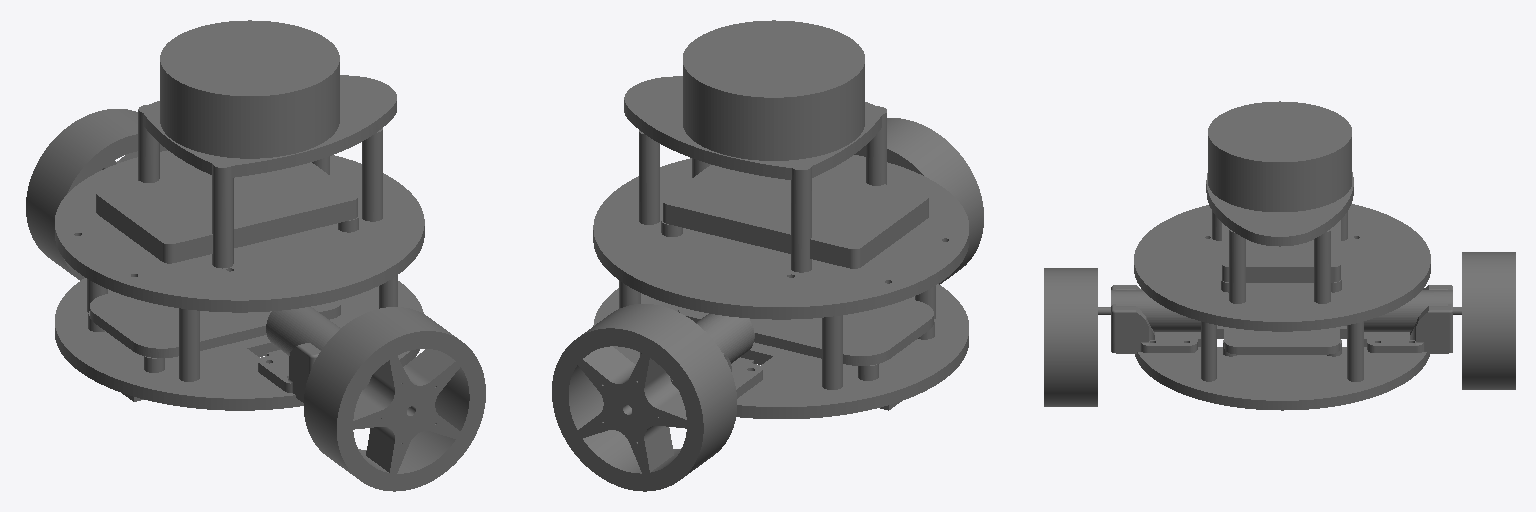
URDF robot description (hykabai):
<?xml version='1.0'?>

<robot name="hykabai" xmlns:xacro="http://www.ros.org/wiki/xacro">


  <link name='base_footprint'/>

  <joint name="base_joint" type="fixed">
    <parent link="base_footprint"/>
    <child link="base_link"/>
    <origin xyz="0.0 0.0 0.010" rpy="0 0 0"/>
  </joint>

  <link name='base_link'>
    <pose>0 0 0.01 0 0 0</pose>
    <inertial>
      <mass value="2.4"/>
      <origin xyz="0.0 0 0.045" rpy=" 0 0 0"/>
      <inertia
          ixx="0.0001" ixy="0" ixz="0"
          iyy="0.0001" iyz="0"
          izz="0.0001"
      />
    </inertial>

    <collision name='collision'>
      <origin xyz="0.0 0 0.07" rpy=" 0 0 0"/>
      <geometry>
        <cylinder length=".121" radius=".07"/>
      </geometry>
    </collision>

    <visual name='chassis_visual'>
      <origin xyz="-0.125 -0.075 -0.16" rpy=" 0 0 3.1416"/>
      <geometry>
        <mesh filename="package://hykabai_simulations/meshes/Base.stl" scale="0.001 0.001 0.001"/>
      </geometry>
      <material name="Gray">
        <color rgba="0.5 0.5 0.5 1.0"/>
      </material>
    </visual>

    <collision name='caster_collision'>
      <origin rpy="0 0 0" xyz="0.065 0 0.01"/>
      <geometry>
        <sphere radius="0.01"/>
      </geometry>
      <surface>
        <friction>
          <ode>
            <mu>0</mu>
            <mu2>0</mu2>
            <slip1>1.0</slip1>
            <slip2>1.0</slip2>
          </ode>
        </friction>
      </surface>
    </collision>

    <visual name='caster_visual'>
      <origin rpy="0 0 0" xyz="0.12 0.073 -0.155"/>
      <geometry>
        <mesh filename="package://hykabai_simulations/meshes/CastorWheel.stl" scale="0.001 0.001 0.001"/>
      </geometry>
    </visual>
  </link>


  <link name="left_wheel">
    <!--origin xyz="0 -188 0.035" rpy="0 1.5707 1.5707"/-->
    <collision name="collision">
      <origin rpy="0 1.5707 1.5707" xyz="0 0 0"/>
      <geometry>
        <cylinder length=".021" radius=".035"/>
      </geometry>
    </collision>
    <visual name="left_wheel_visual">
      <origin rpy="0 3.1416 0" xyz="-0.12 0.16 0.189"/>
      <geometry>
        <mesh filename="package://hykabai_simulations/meshes/LeftWheel.stl" scale="0.001 0.001 0.001"/>
      </geometry>
      <material name="Gray">
        <color rgba="0.5 0.5 0.5 1.0"/>
      </material>
    </visual>
    <inertial>
      <origin rpy="0 1.5707 1.5707" xyz="0 0 0.035"/>
      <mass value="0.01"/>
      <cylinder_inertia m="0.01" r="0.035" h="0.021"/>
      <inertia
        ixx="0.001" ixy="0.0" ixz="0.0"
        iyy="0.001" iyz="0.0"
        izz="0.001"/>
    </inertial>
  </link>

  <link name="right_wheel">
    <!--origin xyz="0 188 0.035" rpy="0 1.5707 1.5707"/-->
    <collision name="collision">
      <origin rpy="0 1.57 1.57" xyz="0 0 0"/>
      <geometry>
        <cylinder length=".021" radius=".035"/>
      </geometry>
    </collision>
    <visual name="right_wheel_visual">
      <origin rpy="0 0 0" xyz="0.125 -0.01 -0.189"/>
      <geometry>
        <mesh filename="package://hykabai_simulations/meshes/RightWheel.stl" scale="0.001 0.001 0.001"/>
      </geometry>
      <material name="Gray">
        <color rgba="0.5 0.5 0.5 1.0"/>
      </material>
    </visual>
    <inertial>
      <origin rpy="0 1.5707 1.5707" xyz="0 0 0.035"/>
      <mass value="0.01"/>
      <cylinder_inertia m="0.01" r="0.035" h="0.021"/>
      <inertia
        ixx="0.001" ixy="0.0" ixz="0.0"
        iyy="0.001" iyz="0.0"
        izz="0.001"/>
    </inertial>
  </link>


  <joint type="continuous" name="left_wheel_hinge">
    <origin xyz="0 -0.09 0.025" rpy="0 0 0"/>
    <child link="left_wheel"/>
    <parent link="base_link"/>
    <axis xyz="0 1 0" rpy="0 0 0"/>
    <limit effort="100" velocity="100"/>
    <joint_properties damping="0.0" friction="0.0"/>
  </joint>

  <joint type="continuous" name="right_wheel_hinge">
    <origin xyz="0 0.082 0.025" rpy="0 0 0"/>
    <child link="right_wheel"/>
    <parent link="base_link"/>
    <axis xyz="0 1 0" rpy="0 0 0"/>
    <limit effort="100" velocity="100"/>
    <joint_properties damping="0.0" friction="0.0"/>
  </joint>




</robot>
	
	

--- Facts derived from the render (not from the file) ---
The picture shows the robot from 3 angles, left to right: view 1: azimuth 30°, elevation 25°; view 2: azimuth 150°, elevation 25°; view 3: azimuth 270°, elevation 25°; orthographic projection.
Robot: hykabai — 4 links, 3 joints (2 continuous, 1 fixed); root link base_footprint; default pose: every joint at zero.
Visible links, largest first — view 1: base_link, left_wheel, right_wheel; view 2: base_link, right_wheel, left_wheel; view 3: base_link, left_wheel, right_wheel.
Link boxes in pixels (x1,y1,x2,y2): base_link: (55,20,424,410); left_wheel: (304,307,485,491); right_wheel: (26,109,166,280); base_link: (593,20,968,418); right_wheel: (552,304,736,491); left_wheel: (854,118,983,284); base_link: (1098,101,1461,410); left_wheel: (1044,268,1097,406); right_wheel: (1462,252,1515,389).
Bounding box of the posed robot: 0.14 × 0.222 × 0.1366 m (x, y, z).
4 mesh visuals loaded from 4 distinct referenced files (4 binary STL).
